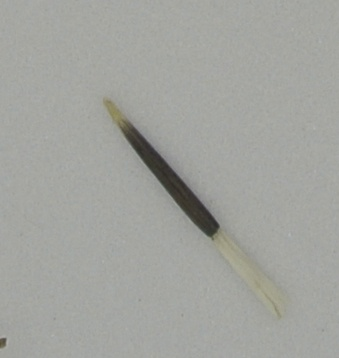เมล็ดดีเรียวยาว: (98, 97, 296, 325)
